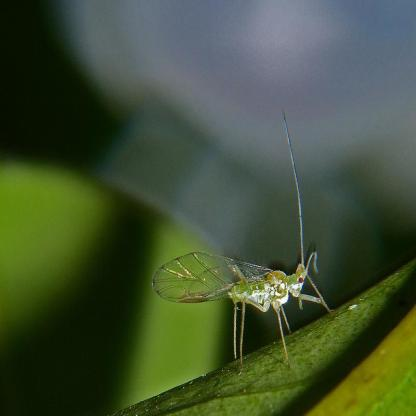aphid: (149, 162, 344, 373)
